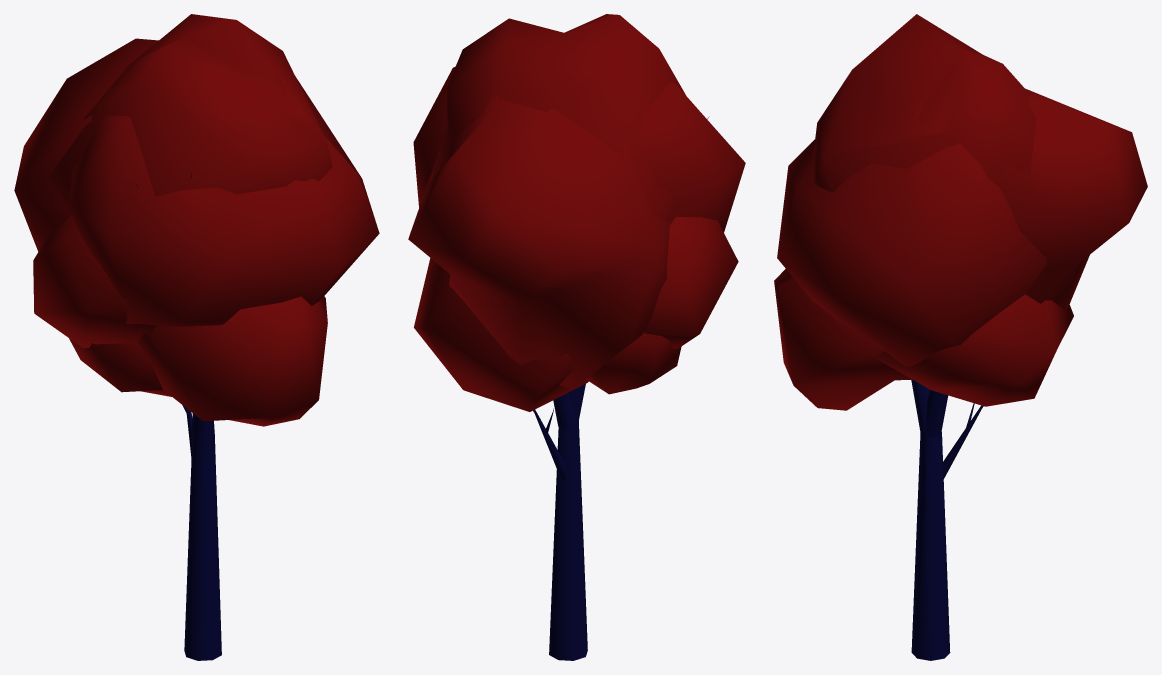
Rendered from Tree_01.fbx.
3 views of the same model, side by side, from view 1: azimuth 30°, elevation 25°; view 2: azimuth 150°, elevation 25°; view 3: azimuth 270°, elevation 25° (orthographic). The views are drawn at different scales.
Visible parts, largest first — view 1: Tree_01; view 2: Tree_01; view 3: Tree_01.
Part boxes in pixels (x1=…): Tree_01: x1=14, y1=14, x2=379, y2=660; Tree_01: x1=408, y1=14, x2=745, y2=660; Tree_01: x1=774, y1=14, x2=1147, y2=660.
Bounding box in the file's own units: 305 × 616 × 337.
